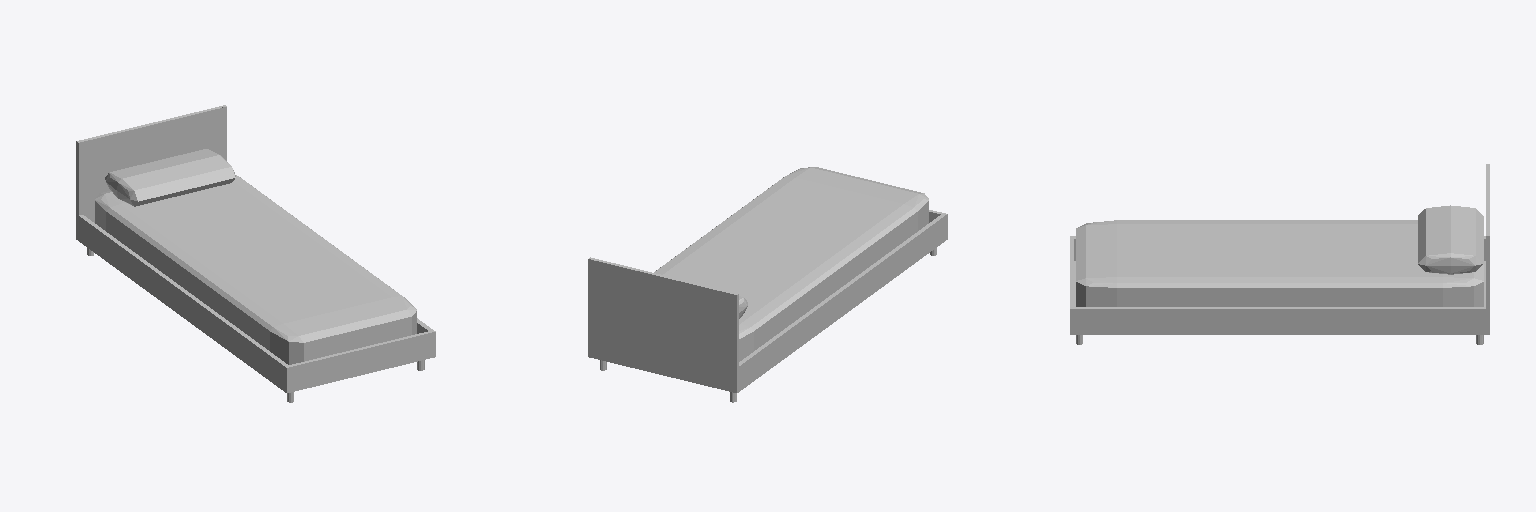
Rendered from bed_export.obj.
3 views of the same model, side by side, from view 1: azimuth 30°, elevation 25°; view 2: azimuth 150°, elevation 25°; view 3: azimuth 270°, elevation 25° (orthographic).
Visible parts, largest first — view 1: mesh01, mesh02, mesh07; view 2: mesh01, mesh02; view 3: mesh01, mesh02, mesh07.
Boxes of the visible parts, <box> form: mesh01: <box>95,175,416,364</box>; mesh02: <box>76,105,435,392</box>; mesh07: <box>105,149,235,206</box>; mesh01: <box>654,167,928,361</box>; mesh02: <box>588,210,947,392</box>; mesh01: <box>1076,220,1483,306</box>; mesh02: <box>1070,164,1489,334</box>; mesh07: <box>1418,205,1483,274</box>.
Bounding box in the file's own units: 139 × 99.84 × 340.